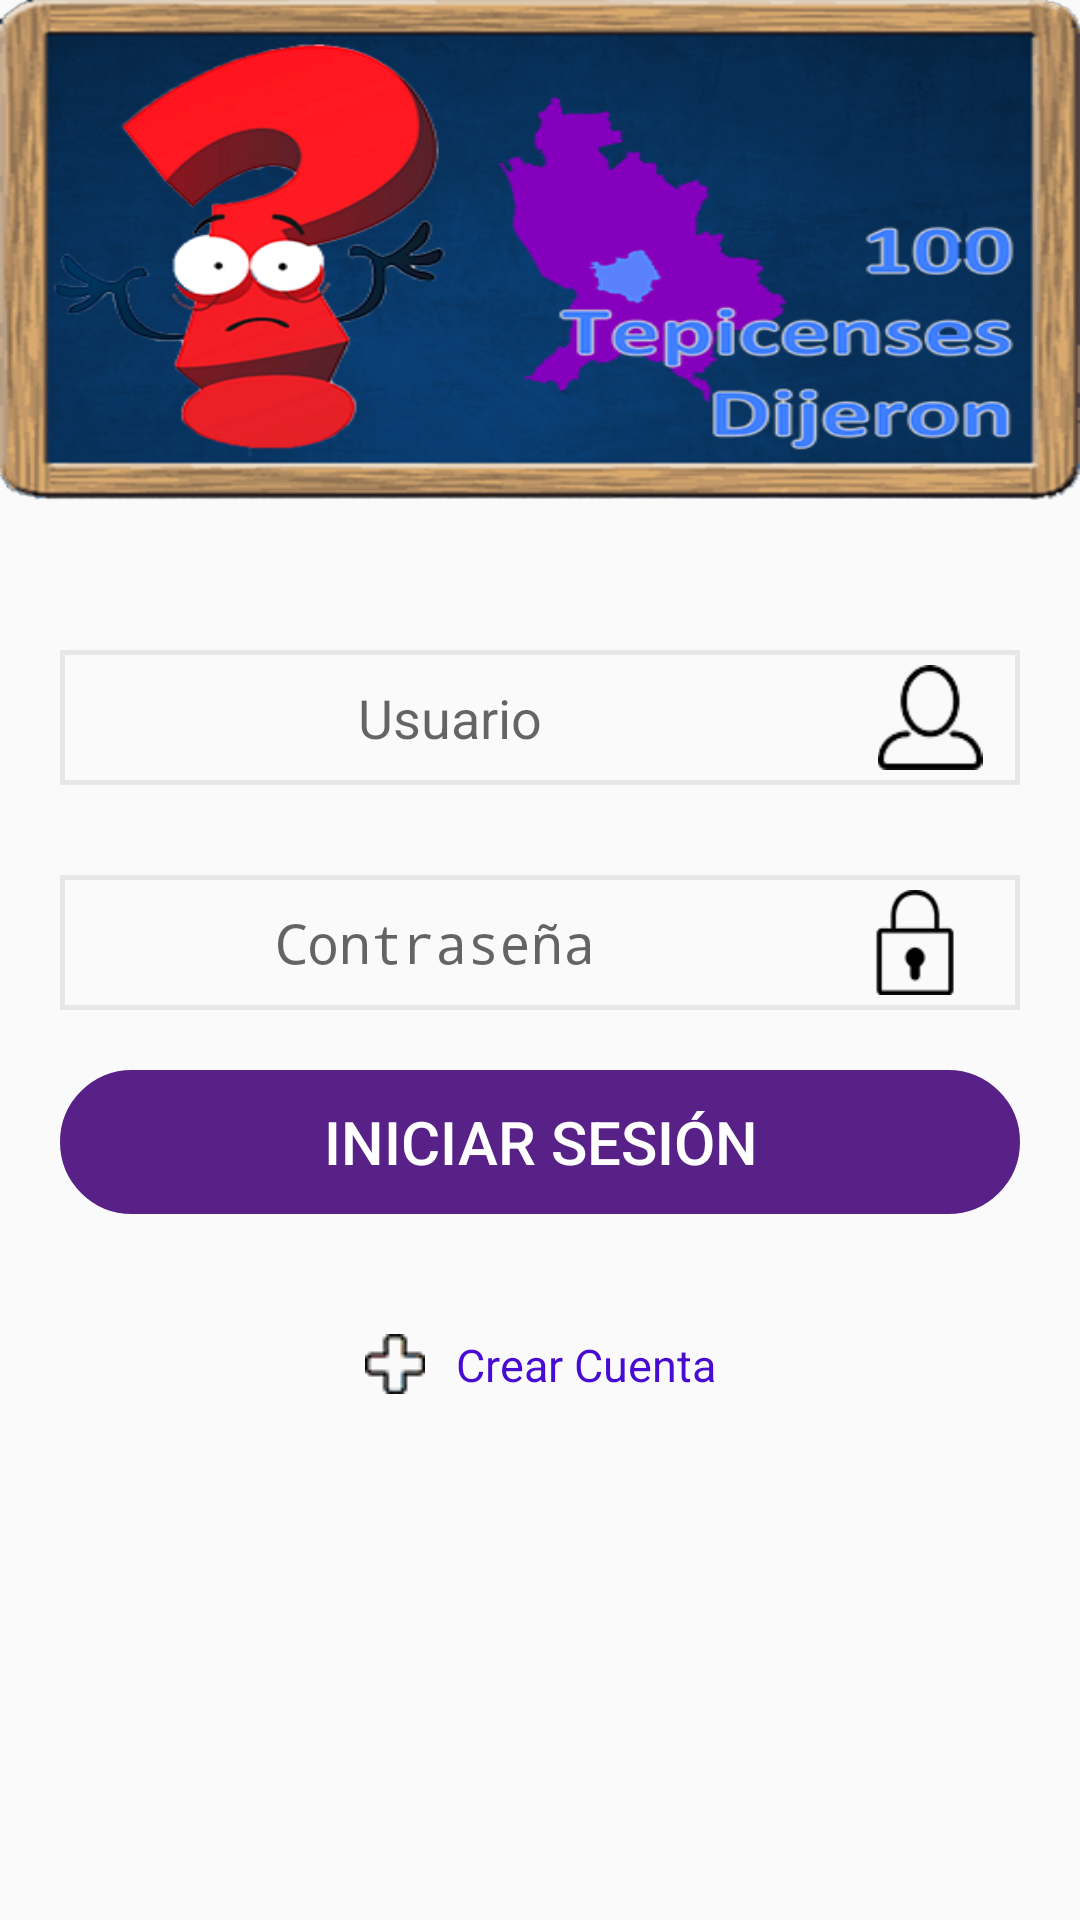

Named icons in this screenshot (1080 x 1920) and their bounding boxes, (x1,y1,x2,y2):
mas: (365,1334,425,1394)
user: (878,665,983,770)
